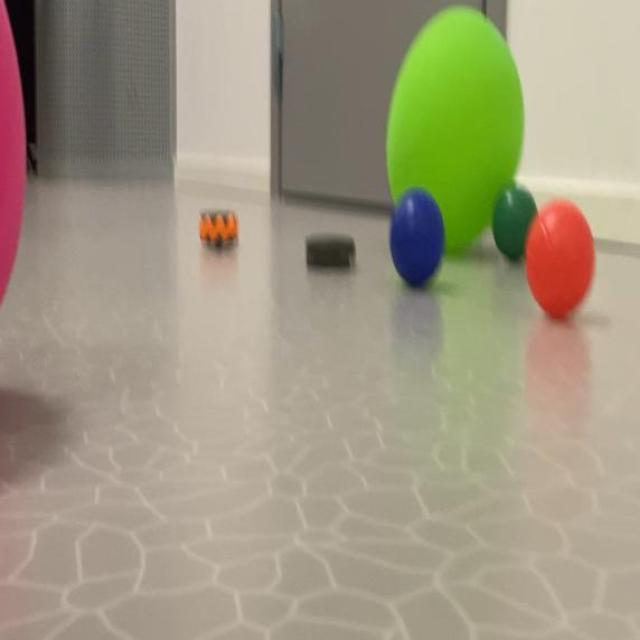blue ball: (391, 198, 443, 292)
green ball: (496, 187, 523, 218)
red ball: (525, 205, 590, 328)
